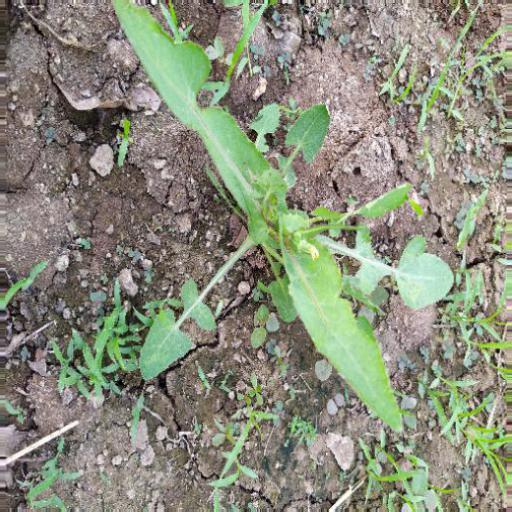weed: (96, 1, 456, 437)
